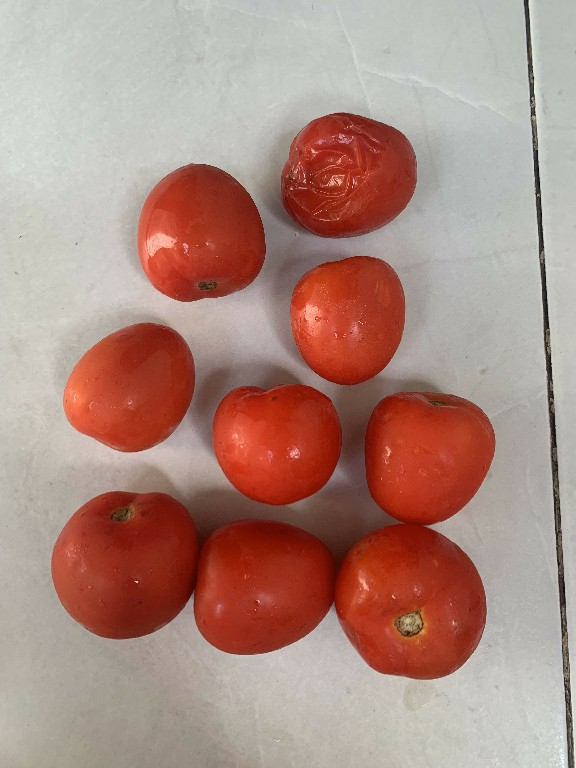NG: (278, 108, 421, 238)
OK: (337, 522, 495, 684), (42, 485, 196, 644), (131, 157, 271, 307), (192, 518, 338, 659), (53, 320, 198, 461), (362, 388, 498, 524), (282, 250, 409, 393), (209, 379, 341, 504)
